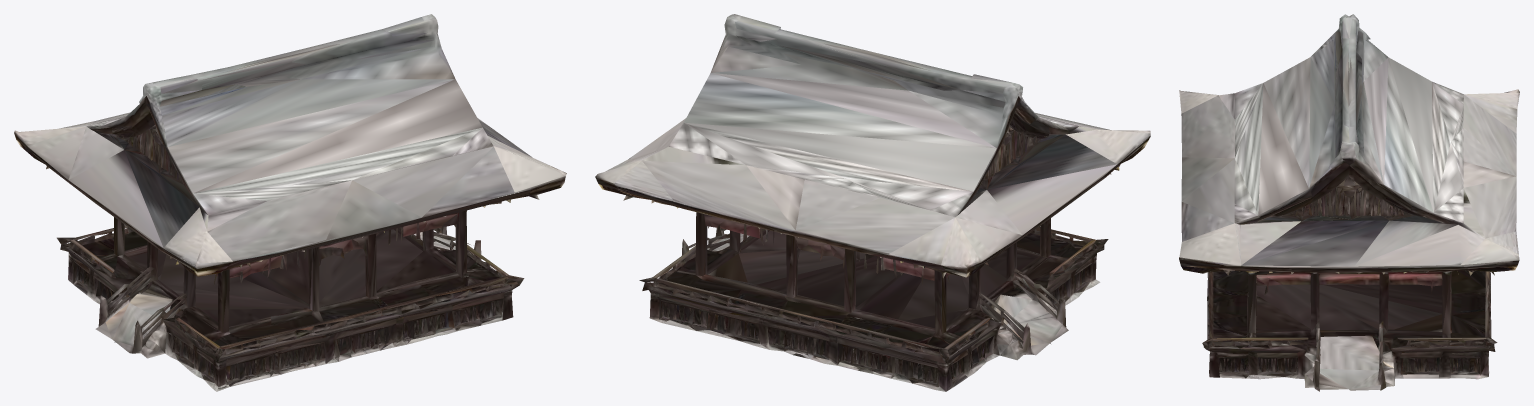
The model's file is dojo.glb.
The picture shows the model from 3 angles, left to right: view 1: azimuth 30°, elevation 25°; view 2: azimuth 150°, elevation 25°; view 3: azimuth 270°, elevation 25°; orthographic projection. The views are drawn at different scales.
Parts seen in each view (by area): view 1: Environment; view 2: Environment; view 3: Environment.
Part boxes in pixels (x1,y1,x2,y2): Environment: (14, 14, 566, 391); Environment: (595, 14, 1150, 391); Environment: (1179, 14, 1519, 391).
Size of the model in its own units: 1.99 by 1.29 by 1.7.
1 material, 1 textured.
